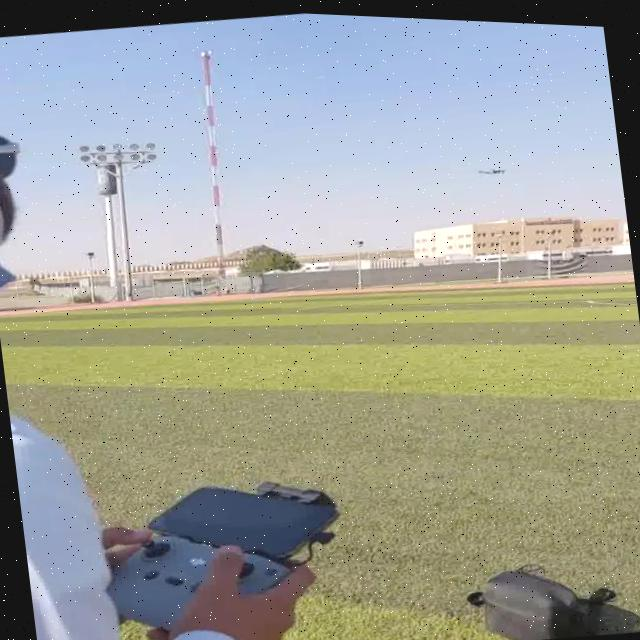drone: (468, 152, 520, 177)
